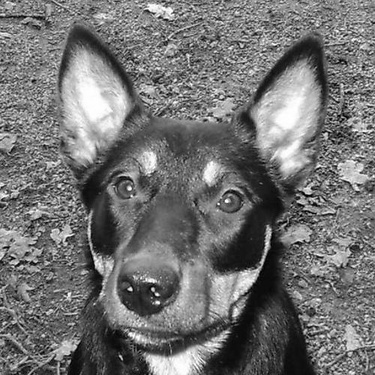dog: (31, 19, 334, 371)
